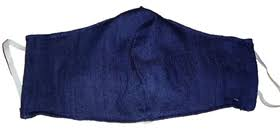cloth_mask: (3, 5, 280, 123)
